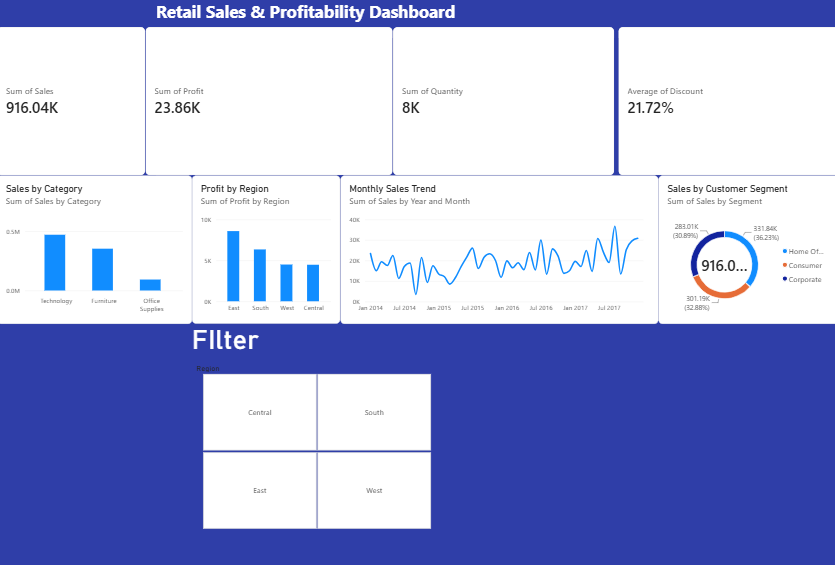

This screenshot's page, from the dashboard's own definition file:
{"tool":"powerbi","page":{"name":"Page 1","canvas":[1920,1080],"ordinal":0},"visuals":[{"type":"cardVisual","fields":{"Data":["Sum(Retail_Sales_Clean.Sales)"]},"box":[0,52,280,280],"z":0},{"type":"cardVisual","fields":{"Data":["Sum(Retail_Sales_Clean.Profit)"]},"box":[252,52,280,280],"z":1000},{"type":"cardVisual","fields":{"Data":["Sum(Retail_Sales_Clean.Quantity)","Avg(Retail_Sales_Clean.Discount)"]},"box":[532,52,374.2,280.6],"z":2000},{"type":"clusteredColumnChart","title":"Sales by Category","fields":{"Category":["Retail_Sales_Clean.Category"],"Y":["Sum(Retail_Sales_Clean.Sales)"]},"box":[0,332,280,280],"z":3000},{"type":"clusteredColumnChart","title":"Profit by Region","fields":{"Category":["Retail_Sales_Clean.Region"],"Y":["Sum(Retail_Sales_Clean.Profit)"]},"box":[280,332,280,280],"z":4000},{"type":"lineChart","title":"Monthly Sales Trend","fields":{"Category":["Retail_Sales_Clean.Order_Date.Variation.Date Hierarchy.Year","Retail_Sales_Clean.Order_Date.Variation.Date Hierarchy.Month"],"Y":["Sum(Retail_Sales_Clean.Sales)"]},"box":[560,332,280,280],"z":5001},{"type":"textbox","box":[300,0,748,52],"z":5002},{"type":"clusteredColumnChart","title":"Sales by Customer Segment","fields":{"Category":["Retail_Sales_Clean.Segment"],"Y":["Sum(Retail_Sales_Clean.Sales)"]},"box":[840,332,280,280],"z":5003},{"type":"slicer","fields":{"Values":["Retail_Sales_Clean.Region"]},"box":[420,612,280,280],"z":5004}]}

Visuals, with their boxes on the page's 1920x1080 design canvas (x1, y1, x2, y2). These are canvas units, not pixel positions in the 835x565 screenshot, which may show the page scaled, cropped or inside an application window:
cardVisual - Sum(Retail_Sales_Clean.Sales): rect(0, 52, 280, 332)
cardVisual - Sum(Retail_Sales_Clean.Profit): rect(252, 52, 532, 332)
cardVisual - Sum(Retail_Sales_Clean.Quantity) x Avg(Retail_Sales_Clean.Discount): rect(532, 52, 906, 333)
"Sales by Category" clusteredColumnChart: rect(0, 332, 280, 612)
"Profit by Region" clusteredColumnChart: rect(280, 332, 560, 612)
"Monthly Sales Trend" lineChart: rect(560, 332, 840, 612)
textbox: rect(300, 0, 1048, 52)
"Sales by Customer Segment" clusteredColumnChart: rect(840, 332, 1120, 612)
slicer - Retail_Sales_Clean.Region: rect(420, 612, 700, 892)
